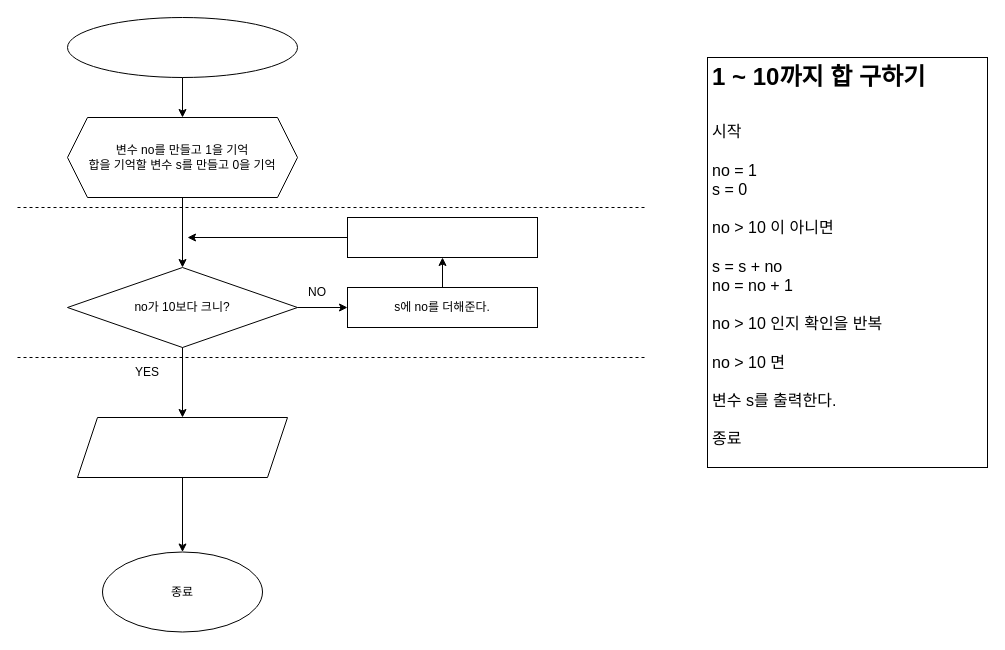
The diagram is 1005 pixels wide and 650 high, and some of its shapes have lost their labels. Each missing label, with the centre of its shape:
"no에 1을 더해준다." goes at point (442, 237).
"변수 s를 합으로 출력" goes at point (182, 447).
"시작" goes at point (182, 47).
